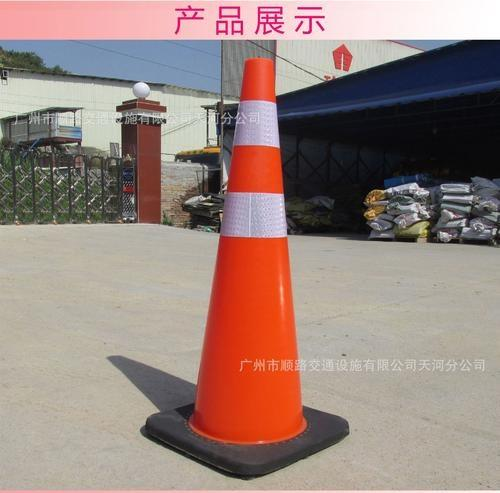cone_barrel: (183, 66, 314, 467)
